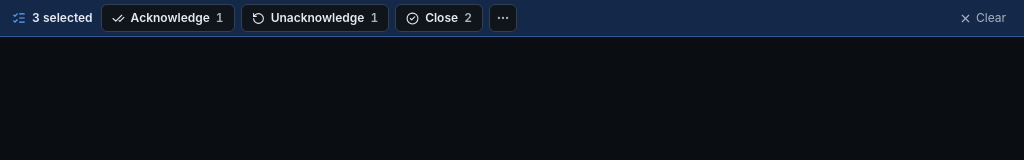
Test: BulkActionBar › acknowledges a single alert at once and reports skipped ones
The width and height of the screenshot is (1024, 160).
Click the button "Acknowledge 1" at (168, 18), box [101,4,235,32]
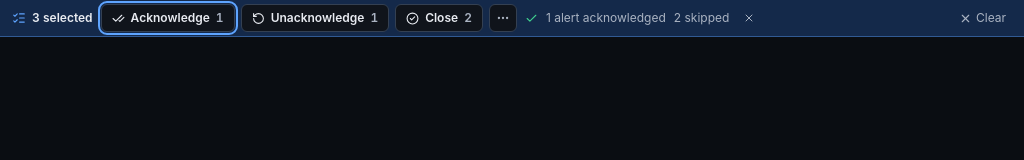
Expected: the element showing "1 alert acknowledged 2 skipped" is shown, [525,10,729,26]
